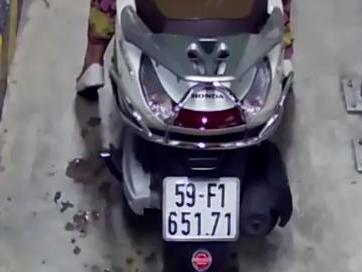num_plate: (160, 175, 245, 243)
